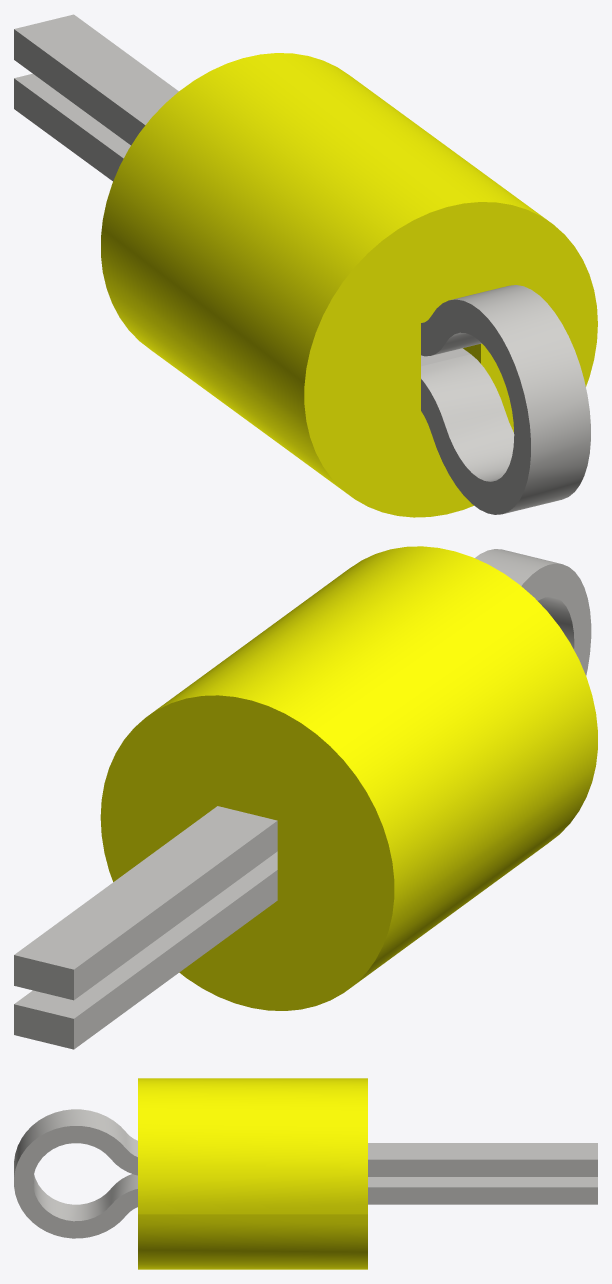
The picture shows the model from 3 angles, top to bottom: view 1: azimuth 30°, elevation 25°; view 2: azimuth 150°, elevation 25°; view 3: azimuth 270°, elevation 25°; orthographic projection. The views are drawn at different scales.
Parts seen in each view (by area): view 1: Keystone5004_yellow, Keystone500x_wire; view 2: Keystone5004_yellow, Keystone500x_wire; view 3: Keystone5004_yellow, Keystone500x_wire.
Boxes of the visible parts, x1,y1,x2,y2 form: Keystone5004_yellow: (101,53,597,517); Keystone500x_wire: (14,14,590,514); Keystone5004_yellow: (100,546,597,1010); Keystone500x_wire: (14,549,591,1049); Keystone5004_yellow: (138,1078,367,1269); Keystone500x_wire: (14,1109,597,1238).
Size of the model in its own units: 2.5 by 2.5 by 7.62.
